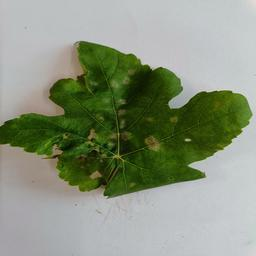Powdery-Mildew: (109, 68, 136, 118), (99, 131, 132, 156), (167, 114, 184, 131), (73, 138, 90, 155), (230, 106, 246, 123), (144, 135, 160, 152), (85, 165, 102, 181), (64, 81, 80, 97)
